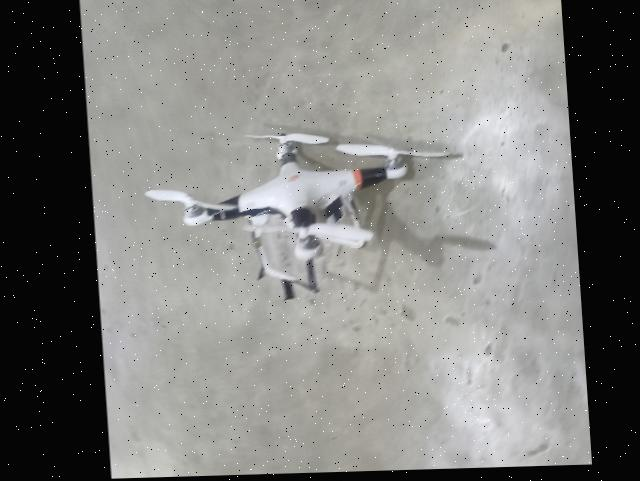drone: (129, 84, 468, 320)
